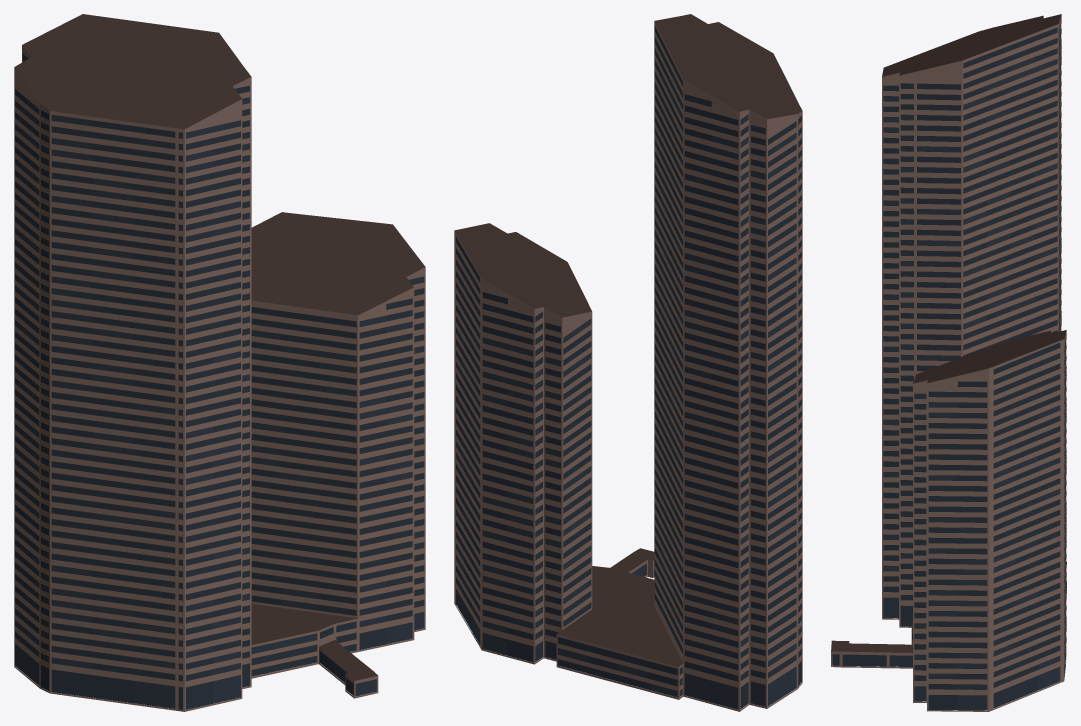
The model's file is suncor-energy-centre-far.glb.
3 renders of one model, left to right at view 1: azimuth 30°, elevation 25°; view 2: azimuth 150°, elevation 25°; view 3: azimuth 270°, elevation 25°, orthographic. The views are drawn at different scales.
Visible parts, largest first — view 1: suncor-energy-centre-0-granite, suncor-energy-centre-0-glass, suncor-energy-centre-0-roof, suncor-energy-centre-0-glow; view 2: suncor-energy-centre-0-granite, suncor-energy-centre-0-glass, suncor-energy-centre-0-roof, suncor-energy-centre-0-glow; view 3: suncor-energy-centre-0-granite, suncor-energy-centre-0-glass, suncor-energy-centre-0-glow, suncor-energy-centre-0-roof.
Part boxes in pixels (x1=…): suncor-energy-centre-0-granite: x1=14, y1=45, x2=425, y2=711; suncor-energy-centre-0-glass: x1=15, y1=54, x2=424, y2=709; suncor-energy-centre-0-roof: x1=14, y1=14, x2=425, y2=680; suncor-energy-centre-0-glow: x1=15, y1=54, x2=424, y2=708; suncor-energy-centre-0-granite: x1=454, y1=22, x2=802, y2=711; suncor-energy-centre-0-glass: x1=456, y1=25, x2=801, y2=709; suncor-energy-centre-0-roof: x1=454, y1=14, x2=802, y2=666; suncor-energy-centre-0-glow: x1=456, y1=71, x2=801, y2=709; suncor-energy-centre-0-granite: x1=831, y1=15, x2=1066, y2=711; suncor-energy-centre-0-glass: x1=833, y1=25, x2=1066, y2=710; suncor-energy-centre-0-glow: x1=832, y1=28, x2=1066, y2=710; suncor-energy-centre-0-roof: x1=831, y1=14, x2=1066, y2=652.
Size of the model in its own units: 126 by 215 by 80.89.
